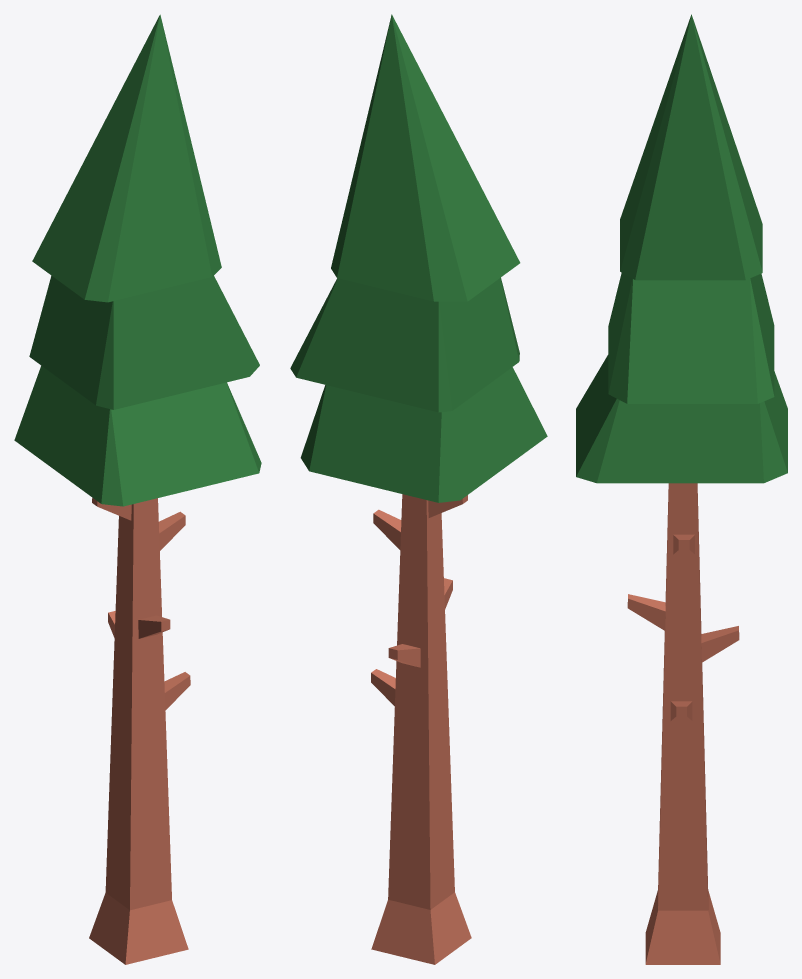
The model's file is tree_pineTallB_detailed.glb.
3 views of the same model, side by side, from view 1: azimuth 30°, elevation 25°; view 2: azimuth 150°, elevation 25°; view 3: azimuth 270°, elevation 25° (orthographic). The views are drawn at different scales.
Visible parts, largest first — view 1: tree_pineTallB_detailed; view 2: tree_pineTallB_detailed; view 3: tree_pineTallB_detailed.
Part boxes in pixels (box(x1,y1,x2,y2)): tree_pineTallB_detailed: box(14, 14, 261, 964); tree_pineTallB_detailed: box(290, 14, 547, 964); tree_pineTallB_detailed: box(576, 14, 787, 964).
Bounding box in the file's own units: 0.3863 × 1.93 × 0.392.
